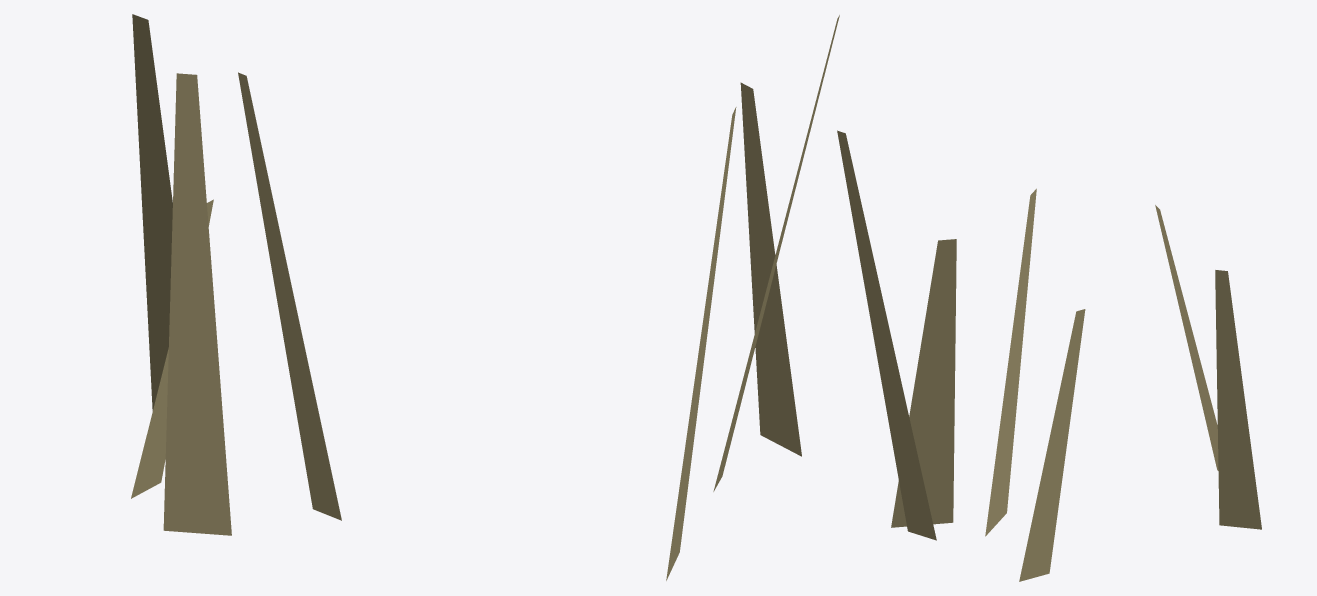
The model's file is veg_grass_dry_01.glb.
The picture shows the model from 3 angles, left to right: view 1: azimuth 30°, elevation 25°; view 2: azimuth 150°, elevation 25°; view 3: azimuth 270°, elevation 25°; orthographic projection. The views are drawn at different scales.
Visible parts, largest first — view 1: blade_04, blade_01, blade_05, blade_02; view 2: blade_08, blade_07, blade_03, blade_01, blade_05; view 3: blade_06, blade_00, blade_07, blade_02.
Boxes of the visible parts, x1,y1,x2,y2 form: blade_04: (163, 73, 231, 535); blade_01: (132, 14, 172, 410); blade_05: (238, 72, 341, 520); blade_02: (131, 199, 213, 498); blade_08: (891, 239, 956, 527); blade_07: (740, 82, 801, 456); blade_03: (837, 130, 936, 540); blade_01: (666, 107, 736, 580); blade_05: (713, 15, 839, 491); blade_06: (1215, 270, 1261, 529); blade_00: (1019, 309, 1085, 581); blade_07: (985, 188, 1036, 536); blade_02: (1155, 205, 1218, 470).
Bounding box in the file's own units: 0.7975 × 0.8108 × 0.5256.
